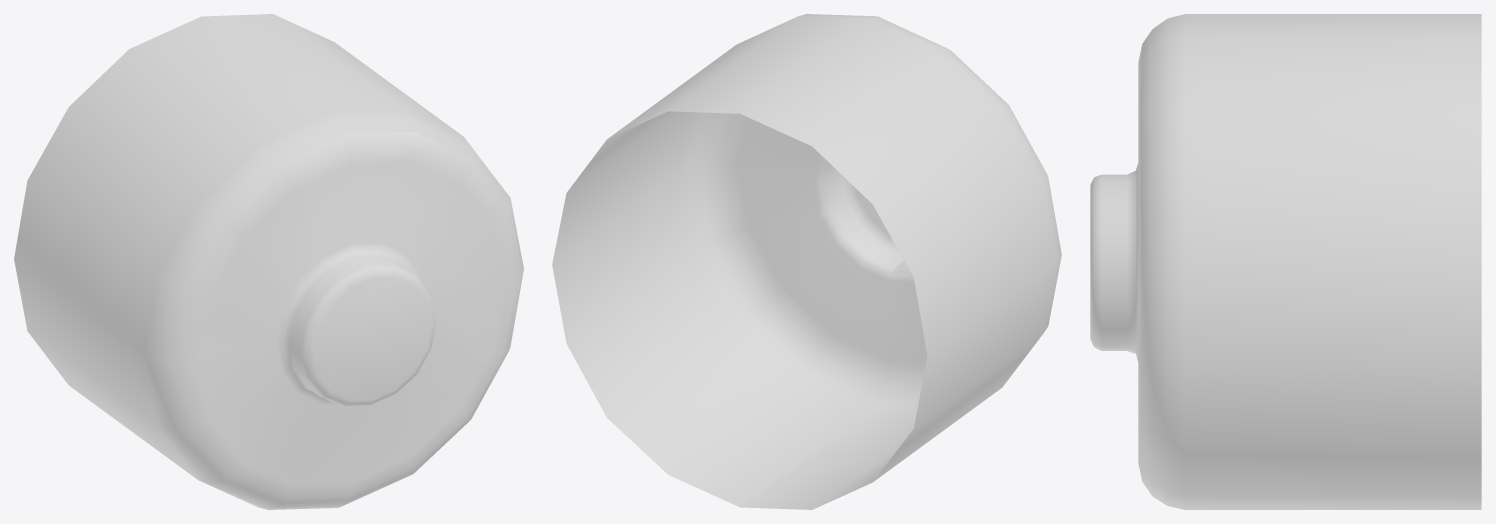
File: play_btn.glb
3 renders of one model, left to right at view 1: azimuth 30°, elevation 25°; view 2: azimuth 150°, elevation 25°; view 3: azimuth 270°, elevation 25°, orthographic. The views are drawn at different scales.
Parts seen in each view (by area): view 1: play_btn; view 2: play_btn; view 3: play_btn.
Boxes of the visible parts, x1,y1,x2,y2 form: play_btn: [14, 14, 523, 509]; play_btn: [552, 14, 1061, 509]; play_btn: [1090, 14, 1481, 509].
Bounding box in the file's own units: 0.00549 × 0.0055 × 0.00434.
1 material, 1 textured.
